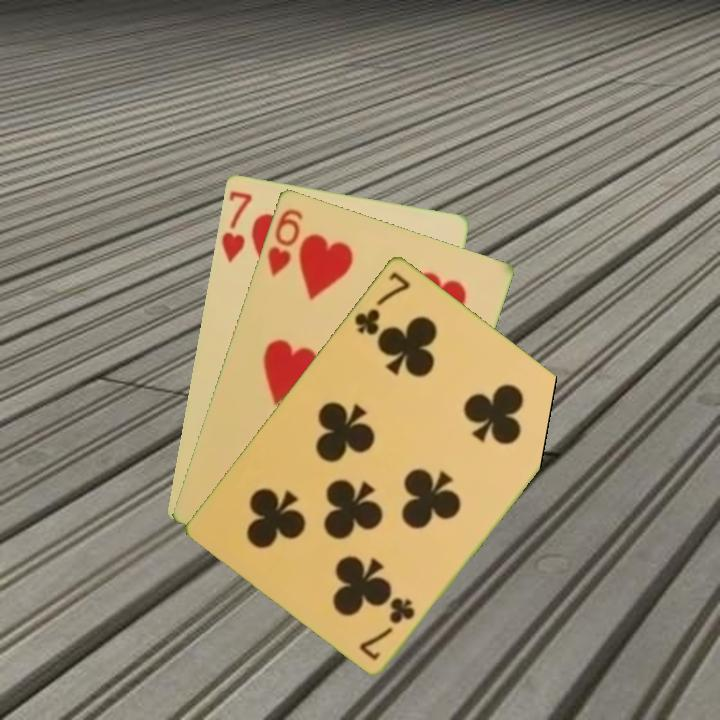6h: (263, 204, 306, 279)
7c: (350, 267, 413, 338), (355, 592, 418, 663)
7h: (217, 187, 255, 265)
